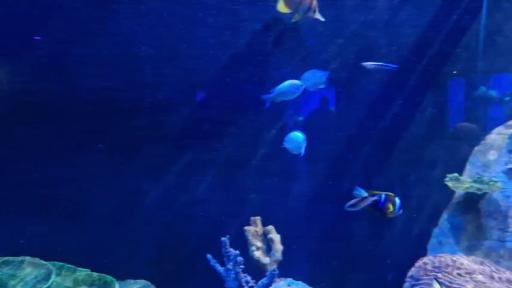Fish: (345, 187, 402, 217), (262, 80, 304, 106), (276, 0, 325, 21), (300, 70, 329, 90), (283, 131, 306, 156), (361, 62, 398, 69)
